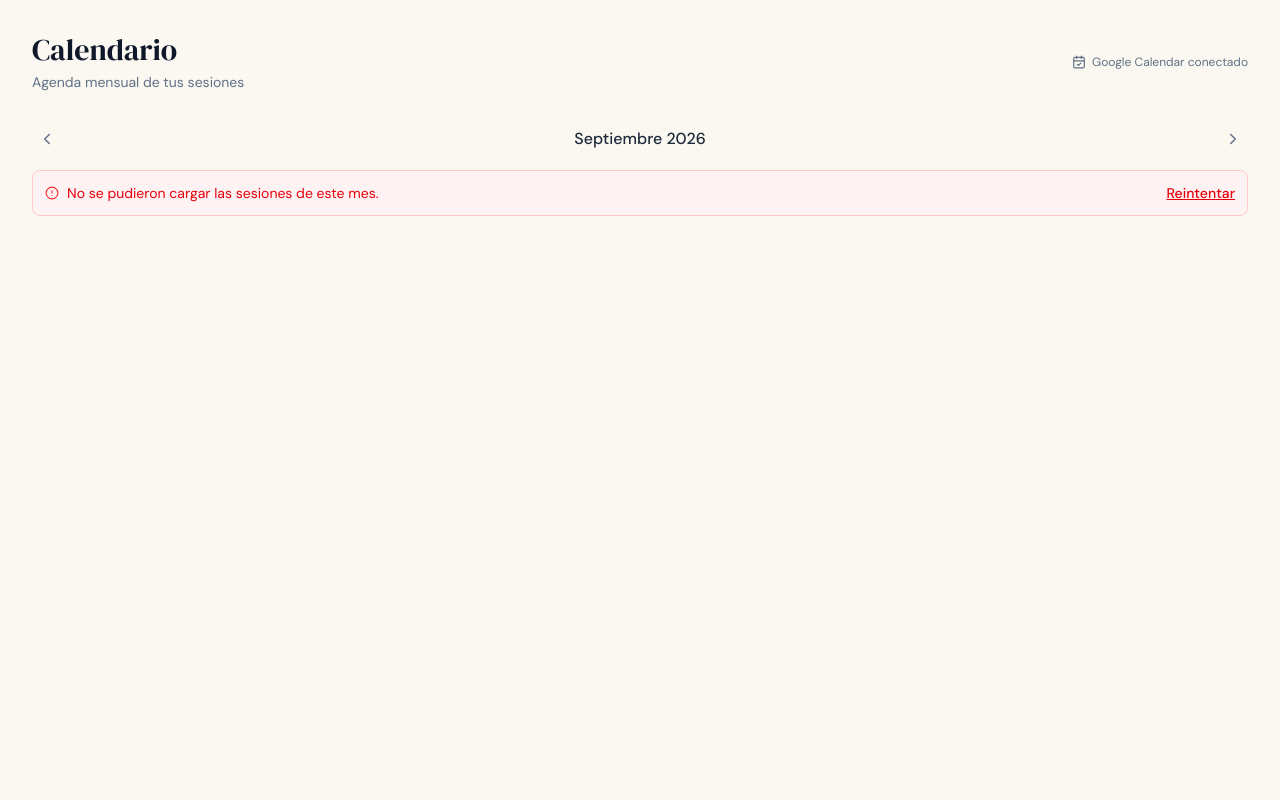
Test case: CalendarPage › si falla la carga de sesiones muestra un banner con reintento y no la grilla
Expected: the text "No se pudieron cargar las sesiones de este mes." is shown, [67, 183, 378, 203]
What coordinates should you click on to do the following:
click the button "Reintentar"
I would click on:
 (1201, 193)
Its box is [1166, 183, 1235, 203].
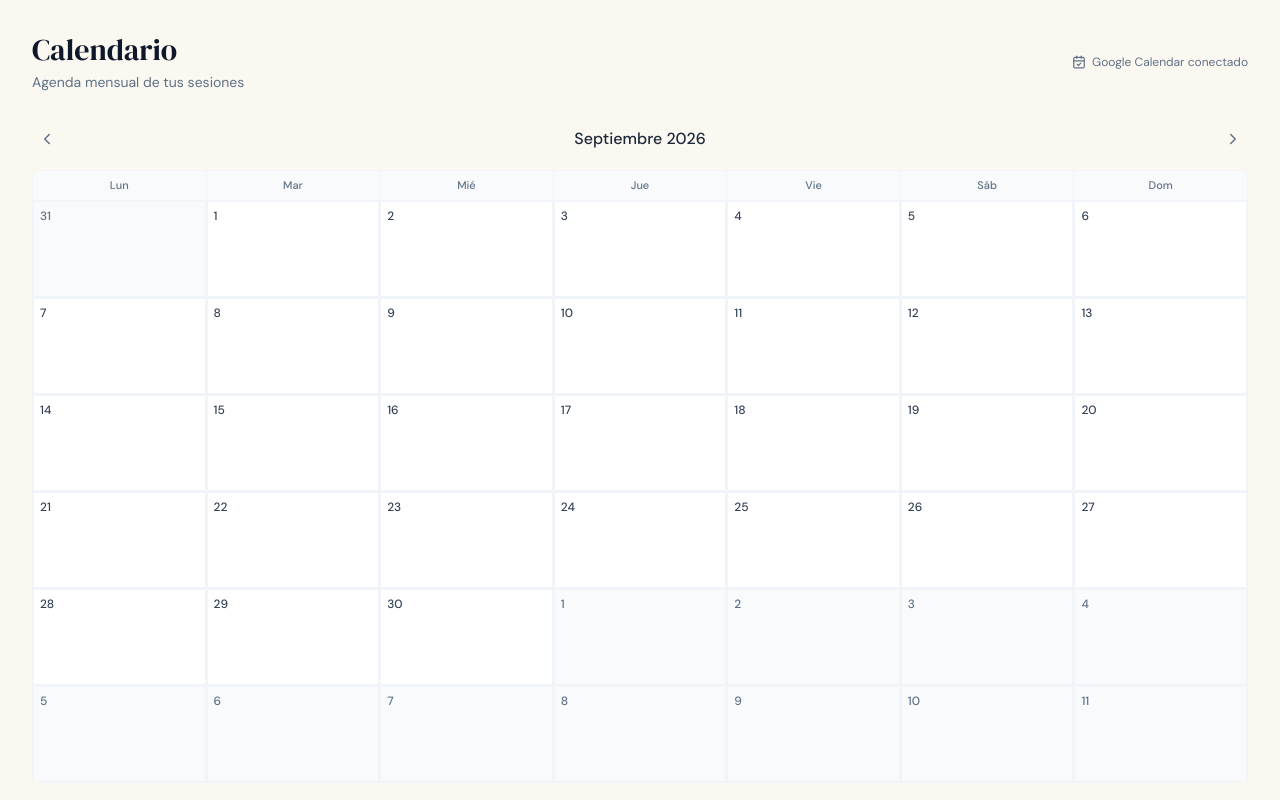
Expected: the button with test id "day-cell-2026-09-10" is shown, [554, 298, 726, 394]
